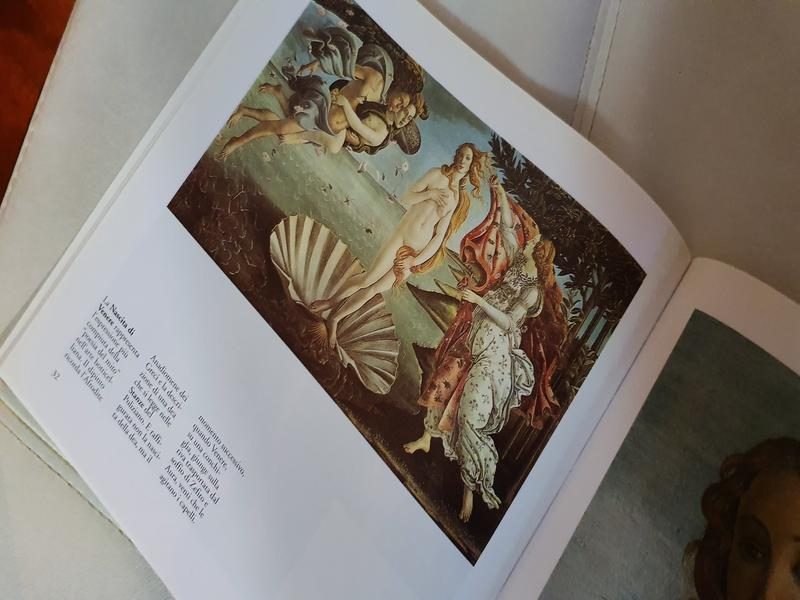Venere: (156, 1, 647, 566)
